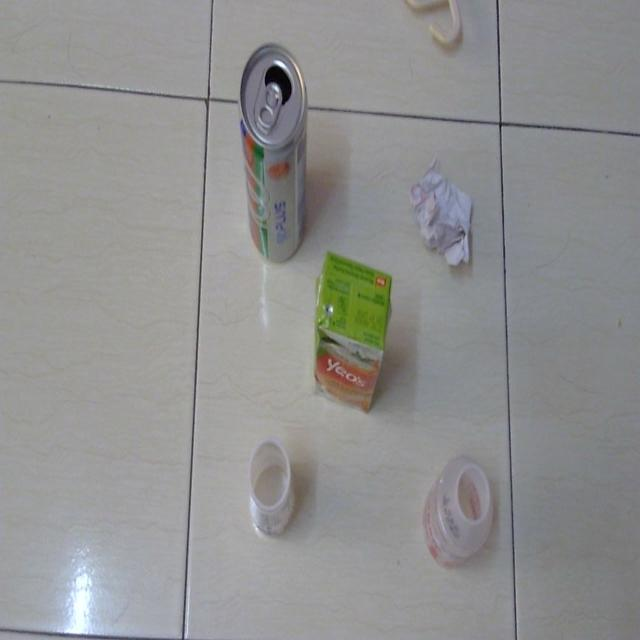metal_standrotation: (236, 34, 313, 267)
paperrotation: (406, 148, 477, 268)
plastic_standrotation: (311, 245, 394, 418), (421, 442, 498, 582), (242, 435, 302, 547)
